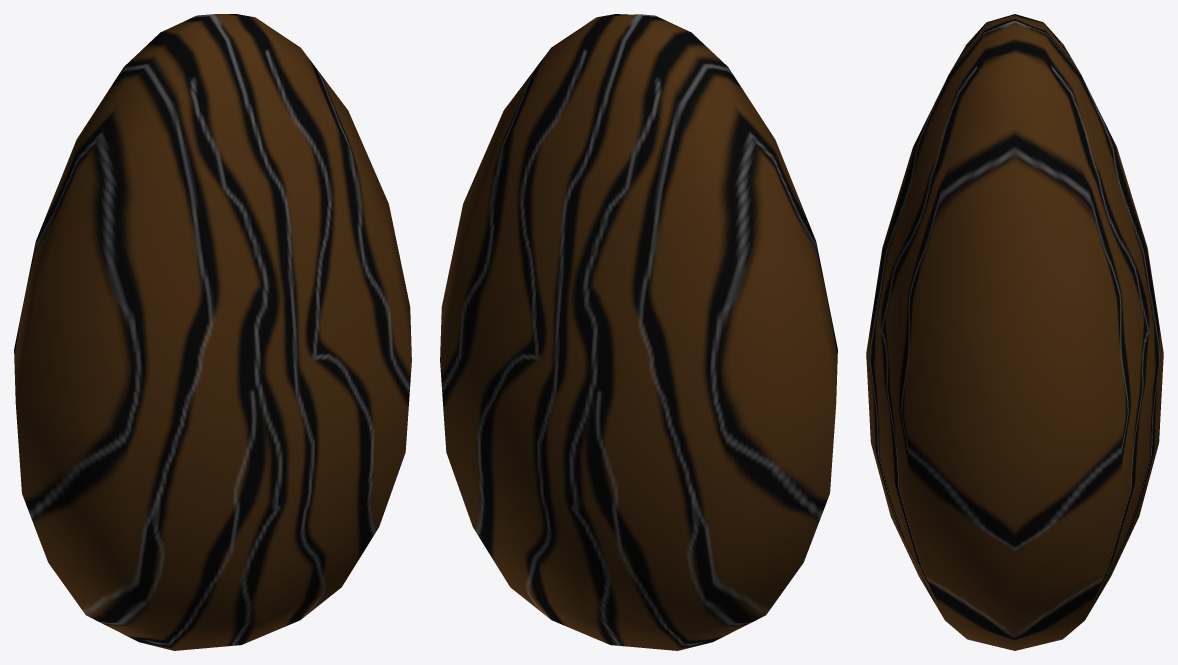
File: seed.glb
3 views of the same model, side by side, from view 1: azimuth 30°, elevation 25°; view 2: azimuth 150°, elevation 25°; view 3: azimuth 270°, elevation 25° (orthographic). The views are drawn at different scales.
Parts seen in each view (by area): view 1: seed; view 2: seed; view 3: seed.
Part boxes in pixels (bbox=[...]): seed: bbox=[14, 14, 411, 650]; seed: bbox=[440, 14, 837, 650]; seed: bbox=[866, 14, 1163, 650].
Size of the model in its own units: 0.6579 by 0.9935 by 0.4407.
Materials: 1 (1 with a texture image).
